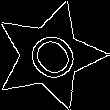O_SE: (15, 22, 84, 88)
